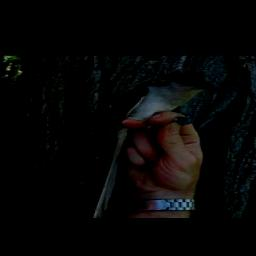Cuckoo: (82, 68, 227, 218)
